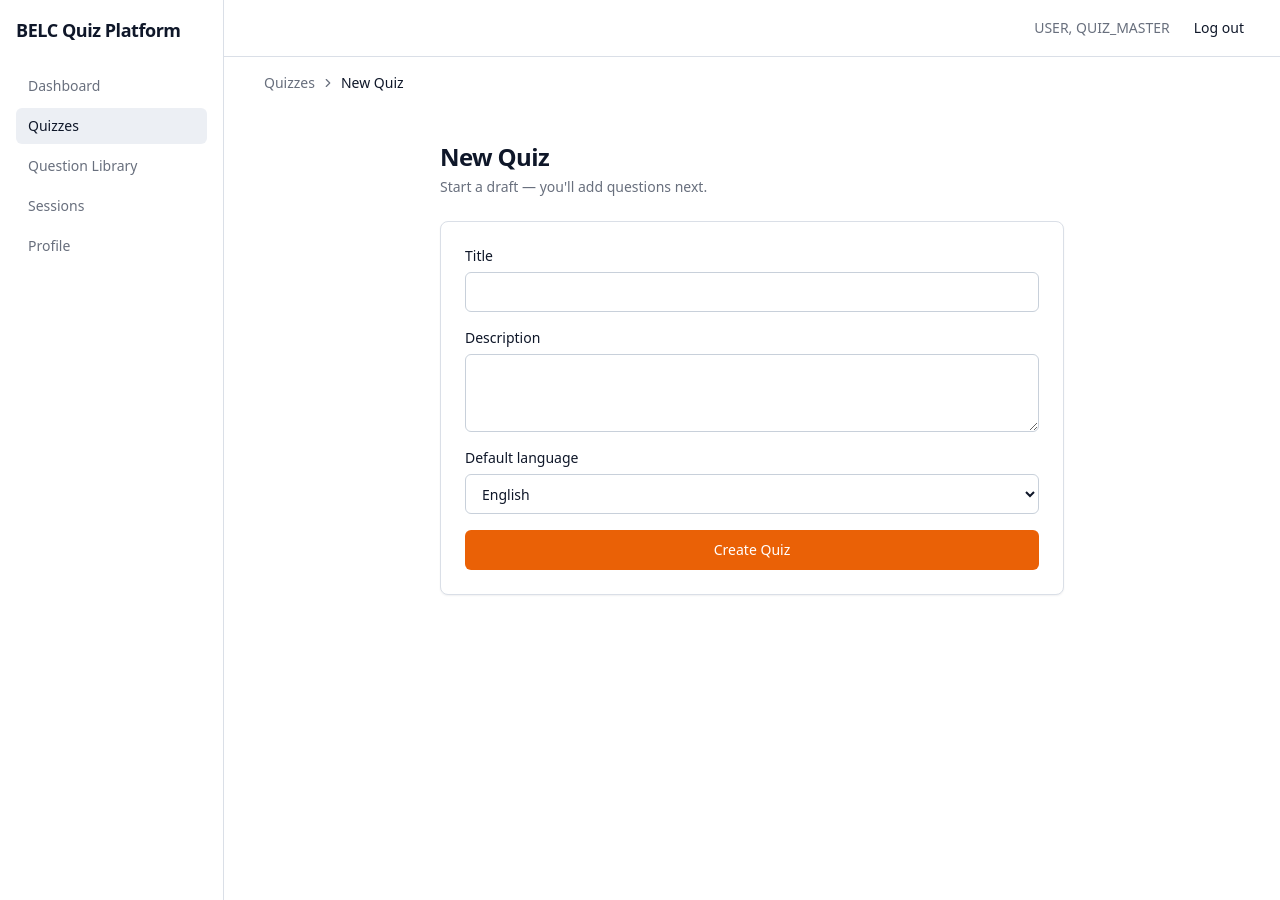
Scenario: CreateQuizPage › creates a quiz and navigates straight into editing it
The image size is (1280, 900).
Type "Genesis Quiz" into the field labelled "Title". click: [752, 292]
box: [465,272,1039,312]
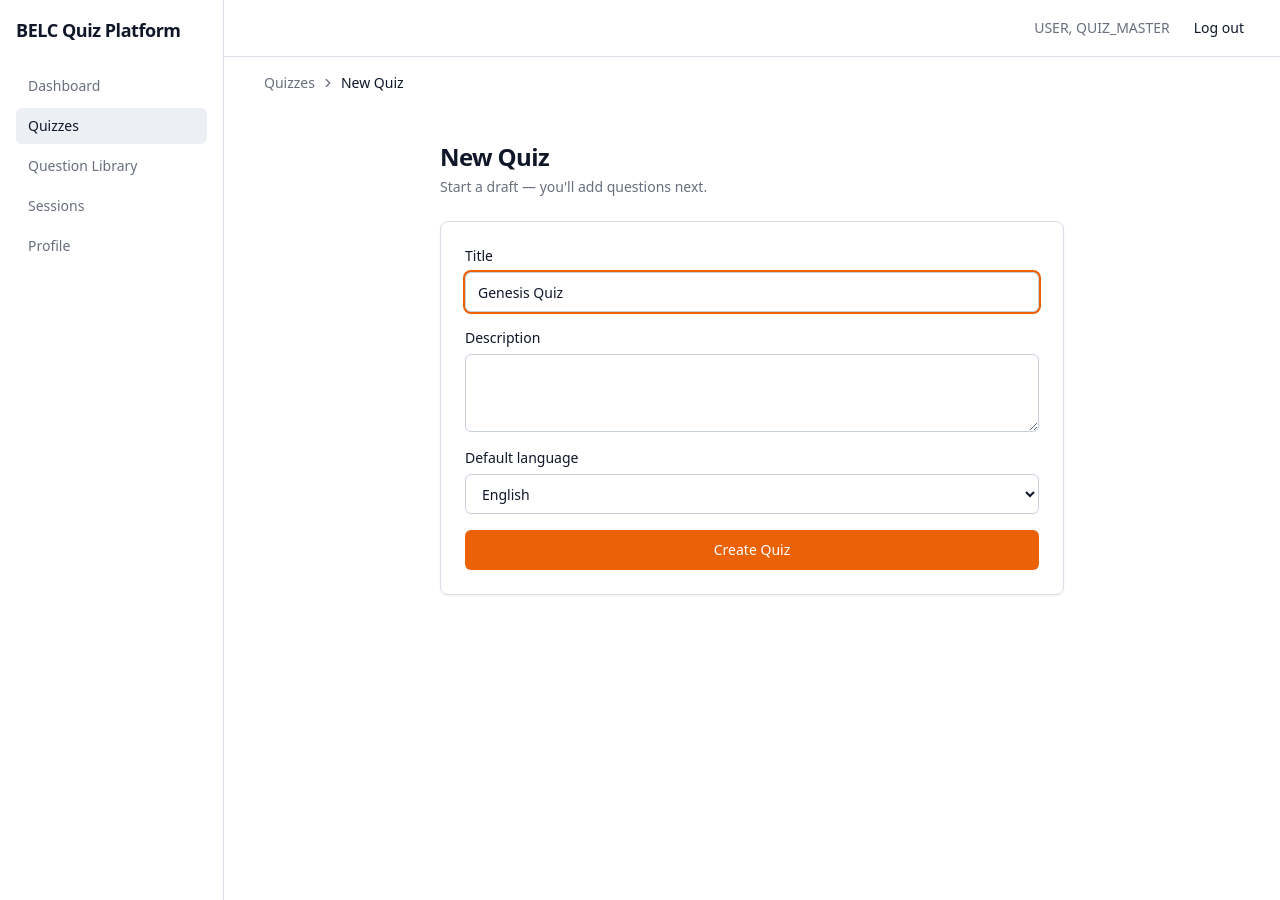
Click the button "Create Quiz". click: [752, 550]
box: [465,530,1039,570]
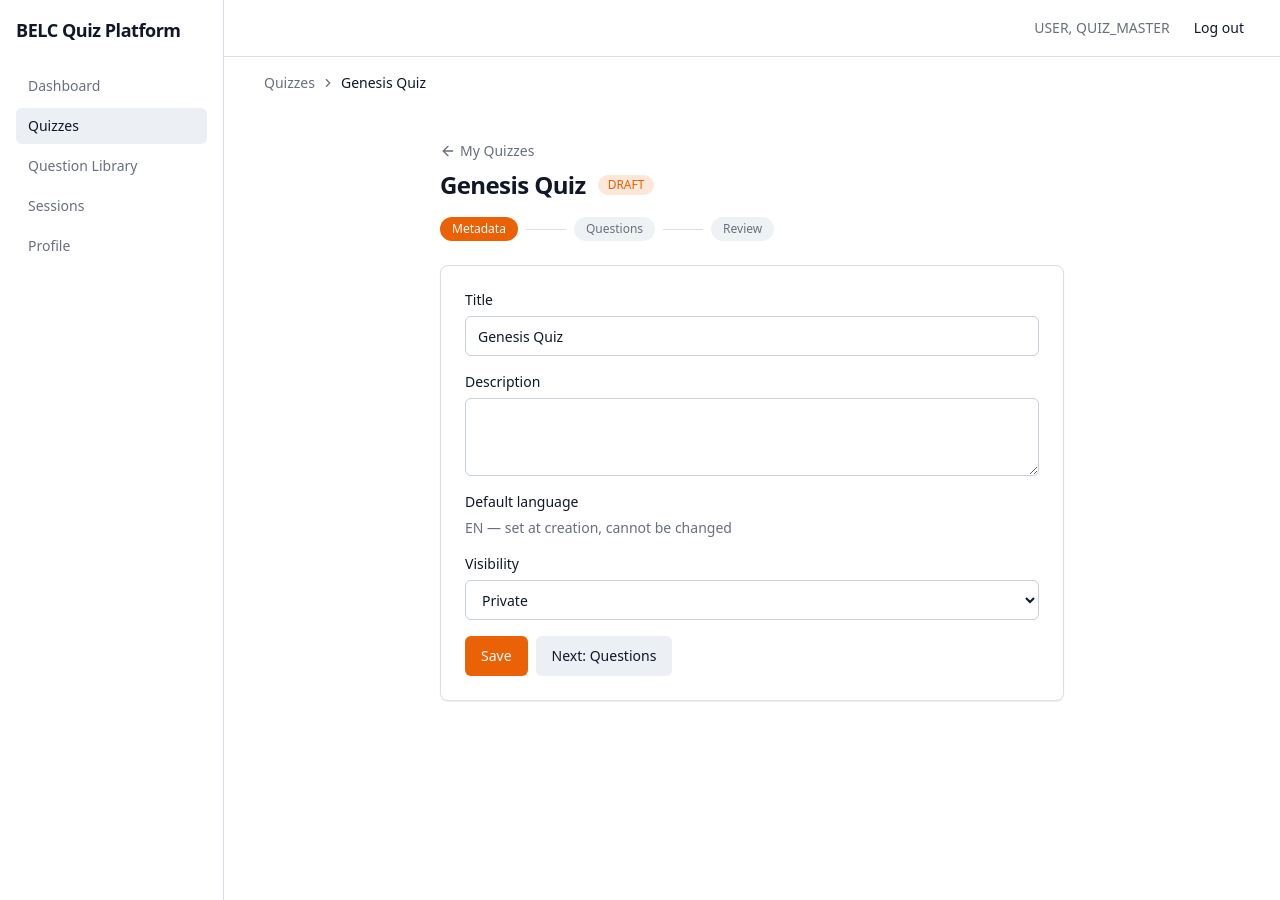
Check: the heading "Genesis Quiz" is shown, box [440,169,586,201]
